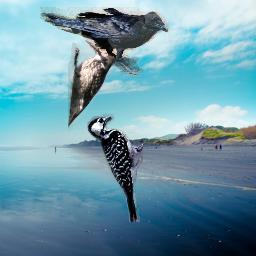Crow: (40, 7, 169, 76)
Woodpecker: (87, 113, 143, 222), (68, 39, 117, 131)
